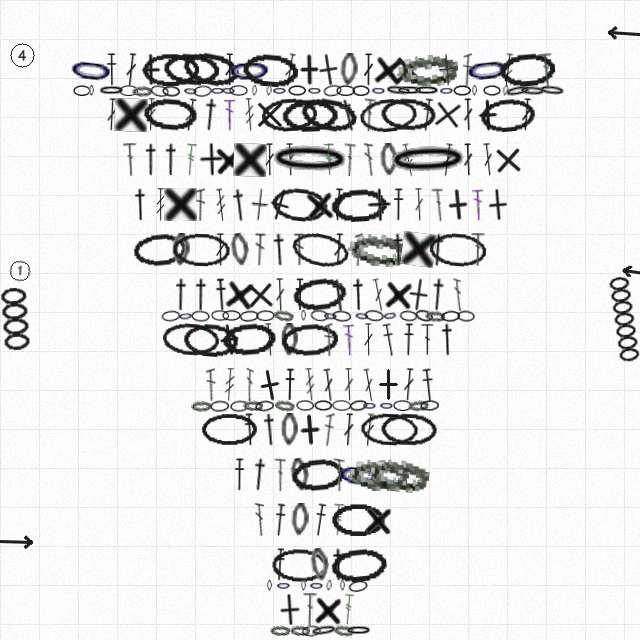chain: (386, 142, 470, 178), (268, 142, 352, 177), (289, 228, 351, 272), (180, 48, 241, 91), (298, 94, 359, 136), (367, 456, 430, 494), (396, 51, 459, 89), (270, 185, 330, 224), (347, 231, 410, 268), (358, 96, 419, 134), (291, 275, 349, 314), (329, 546, 388, 584), (161, 321, 221, 358), (479, 96, 537, 134), (241, 51, 299, 89), (428, 231, 487, 268), (260, 96, 319, 133), (290, 456, 347, 494), (132, 231, 189, 269), (162, 51, 220, 88), (498, 51, 556, 88), (280, 322, 339, 358), (221, 321, 278, 358), (142, 96, 199, 133), (182, 322, 240, 358), (330, 187, 387, 223), (360, 412, 418, 447), (172, 232, 230, 267), (348, 458, 409, 491), (380, 412, 437, 447), (380, 97, 437, 132), (271, 548, 328, 582), (281, 98, 338, 132), (201, 413, 258, 446), (142, 53, 199, 86), (67, 51, 116, 89), (331, 503, 386, 536), (463, 51, 512, 88), (335, 457, 383, 492), (226, 53, 273, 87), (309, 547, 331, 582), (289, 457, 311, 492), (229, 232, 251, 267), (291, 503, 309, 536), (172, 233, 190, 266), (380, 143, 398, 176), (340, 53, 358, 86), (281, 413, 298, 446), (281, 323, 298, 356), (504, 83, 532, 99), (310, 623, 338, 638), (538, 84, 566, 97), (385, 84, 412, 97), (519, 85, 546, 97), (414, 308, 434, 323), (345, 625, 372, 636), (98, 85, 125, 96), (396, 85, 423, 96), (413, 85, 440, 96), (348, 579, 368, 593), (333, 624, 354, 637), (274, 399, 295, 412), (408, 399, 429, 412), (273, 309, 294, 322), (150, 84, 169, 98), (364, 309, 384, 322), (349, 399, 368, 412), (310, 309, 329, 322), (323, 84, 342, 97), (191, 400, 211, 412), (161, 310, 181, 322), (239, 310, 259, 322), (425, 310, 445, 322), (132, 85, 152, 97), (302, 625, 321, 637), (210, 400, 229, 412), (230, 400, 249, 412), (255, 400, 274, 412), (191, 310, 210, 322), (332, 310, 351, 322), (399, 310, 418, 322), (441, 310, 460, 322), (193, 85, 212, 97), (270, 625, 290, 636), (290, 625, 310, 636), (243, 400, 263, 411), (457, 310, 475, 322), (162, 85, 180, 97), (332, 400, 351, 411), (393, 400, 412, 411), (420, 400, 439, 411), (222, 310, 241, 321), (256, 310, 275, 321), (119, 85, 138, 96), (229, 85, 248, 96), (336, 85, 355, 96), (382, 309, 398, 322), (296, 400, 314, 411), (314, 400, 332, 411), (211, 310, 229, 321), (73, 85, 91, 96), (288, 85, 306, 96), (352, 85, 370, 96), (453, 85, 471, 96), (483, 85, 501, 96), (354, 310, 370, 322), (178, 310, 193, 322), (323, 310, 338, 322), (183, 85, 198, 97), (276, 580, 291, 591), (309, 580, 324, 591), (362, 400, 377, 411), (379, 400, 394, 411), (210, 85, 225, 96), (221, 85, 236, 96), (272, 85, 287, 96), (307, 85, 322, 96), (371, 85, 386, 96), (439, 85, 454, 96), (502, 85, 509, 96), (326, 580, 332, 591), (266, 85, 272, 96), (267, 580, 272, 591), (301, 580, 306, 591), (340, 580, 345, 591), (301, 310, 306, 321), (89, 85, 94, 96), (252, 85, 257, 96), (472, 85, 477, 96)
double: (370, 278, 387, 312), (538, 53, 555, 87), (361, 368, 377, 402), (282, 53, 298, 87), (321, 368, 336, 402), (440, 143, 455, 177), (183, 98, 198, 132), (123, 143, 138, 176), (361, 98, 376, 131), (362, 413, 376, 447), (303, 593, 317, 626), (471, 233, 485, 266), (431, 188, 445, 221), (342, 143, 356, 176), (481, 143, 495, 176), (124, 53, 138, 86), (273, 458, 286, 491), (342, 413, 355, 446), (402, 368, 415, 401), (263, 323, 276, 356), (421, 323, 434, 356), (332, 233, 345, 266), (332, 188, 345, 221), (520, 98, 533, 131), (333, 458, 345, 491), (323, 413, 335, 446), (343, 368, 355, 401), (343, 323, 355, 356), (274, 278, 286, 311), (254, 233, 266, 266), (413, 188, 425, 221), (472, 188, 484, 221), (284, 143, 296, 176), (462, 143, 474, 176), (106, 98, 118, 131), (145, 98, 157, 131), (462, 98, 474, 131), (363, 323, 374, 356), (215, 233, 226, 266), (294, 233, 305, 266), (264, 143, 275, 176), (224, 98, 235, 131), (224, 53, 235, 86), (363, 53, 374, 86), (206, 368, 216, 401), (324, 323, 334, 356), (453, 278, 463, 311), (364, 143, 374, 176), (255, 503, 264, 536), (245, 368, 254, 401), (354, 233, 363, 266), (196, 188, 205, 221), (463, 53, 472, 86)
enseble_chain: (607, 275, 640, 364), (0, 286, 33, 353)
half_double: (336, 97, 361, 133), (248, 457, 271, 492), (199, 97, 222, 132), (427, 277, 449, 312), (328, 278, 350, 312), (427, 233, 449, 267), (229, 188, 250, 222), (171, 278, 191, 312), (260, 413, 280, 446), (191, 278, 211, 311), (141, 143, 161, 176), (161, 143, 181, 176), (329, 548, 348, 581), (438, 323, 457, 356), (349, 278, 368, 311), (270, 233, 289, 266), (389, 233, 408, 266), (131, 188, 150, 221), (380, 323, 398, 357), (419, 98, 436, 132), (272, 503, 288, 537), (312, 503, 328, 537), (420, 368, 436, 402), (273, 548, 287, 581), (214, 278, 228, 311), (233, 458, 246, 491), (243, 413, 256, 446), (402, 323, 415, 356), (392, 188, 405, 221), (105, 53, 118, 86), (284, 368, 296, 401), (294, 278, 306, 311)
noise: (8, 41, 36, 69), (7, 258, 32, 283), (0, 534, 35, 550), (605, 25, 640, 41), (619, 265, 640, 279)
single: (259, 184, 300, 225), (251, 366, 289, 404), (211, 321, 248, 358), (400, 276, 437, 313), (400, 231, 437, 268), (429, 96, 466, 133), (310, 51, 347, 88), (223, 276, 257, 313), (272, 592, 307, 627), (292, 412, 327, 447), (440, 187, 475, 222), (480, 187, 515, 222), (372, 52, 405, 88), (243, 278, 277, 312), (233, 143, 267, 177), (491, 143, 525, 177), (114, 98, 148, 132), (471, 98, 505, 132), (392, 53, 426, 87), (383, 277, 415, 312), (372, 368, 405, 401), (164, 188, 197, 221), (253, 98, 286, 131), (134, 53, 167, 86), (293, 53, 326, 86), (304, 188, 336, 222), (313, 593, 344, 627), (363, 503, 394, 537), (214, 143, 245, 177), (366, 188, 392, 222), (198, 143, 224, 176), (250, 188, 270, 222), (438, 53, 457, 87)
treble: (400, 143, 417, 177), (214, 188, 228, 222), (501, 53, 515, 87), (303, 368, 317, 401), (184, 143, 198, 176), (342, 593, 355, 626), (332, 503, 345, 536), (223, 368, 236, 401), (243, 98, 256, 131), (323, 143, 335, 176), (155, 188, 166, 221)
